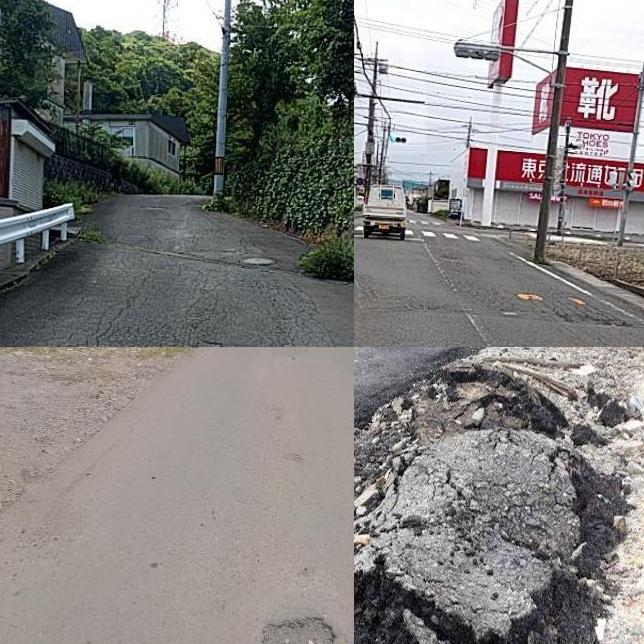Lubang: (262, 616, 335, 644)
Pinggir: (354, 347, 644, 644)
Retak Buaya: (92, 264, 322, 347)
